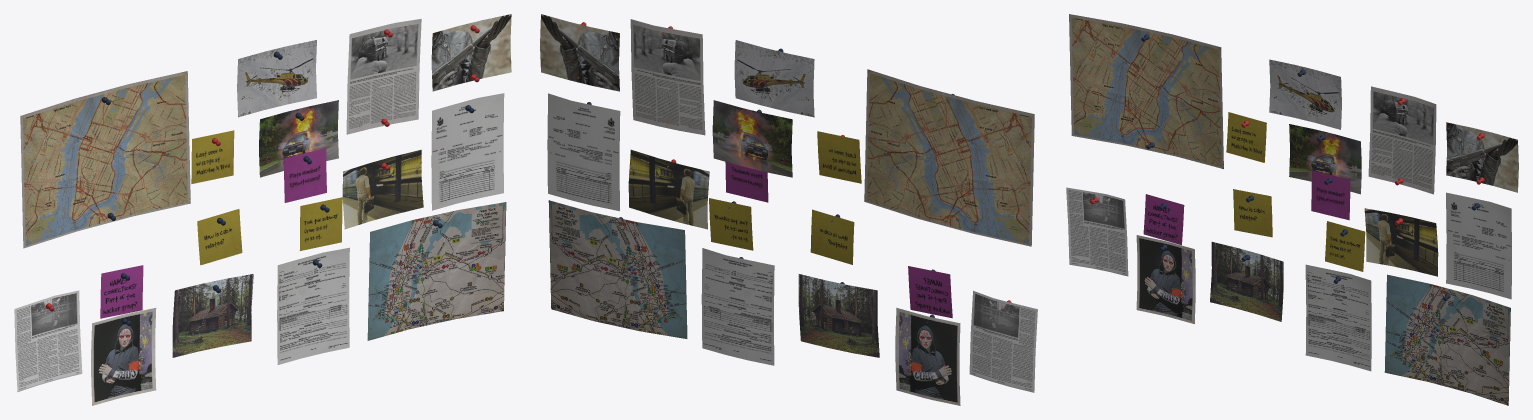
The model's file is Bulletinboard_props.FBX.
3 views of the same model, side by side, from view 1: azimuth 30°, elevation 25°; view 2: azimuth 150°, elevation 25°; view 3: azimuth 330°, elevation 25° (orthographic). The views are drawn at different scales.
Visible parts, largest first — view 1: Bulletinboard_props; view 2: Bulletinboard_props; view 3: Bulletinboard_props.
Boxes of the visible parts, x1=… form: Bulletinboard_props: x1=14, y1=14, x2=511, y2=405; Bulletinboard_props: x1=540, y1=14, x2=1037, y2=405; Bulletinboard_props: x1=1066, y1=14, x2=1518, y2=405.
Size of the model in its own units: 153 by 93.4 by 3.64.
